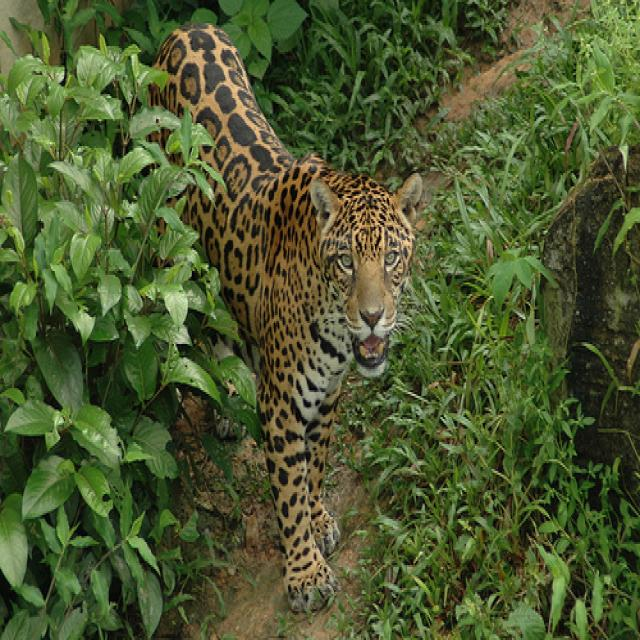Leopard: (141, 25, 422, 615)
